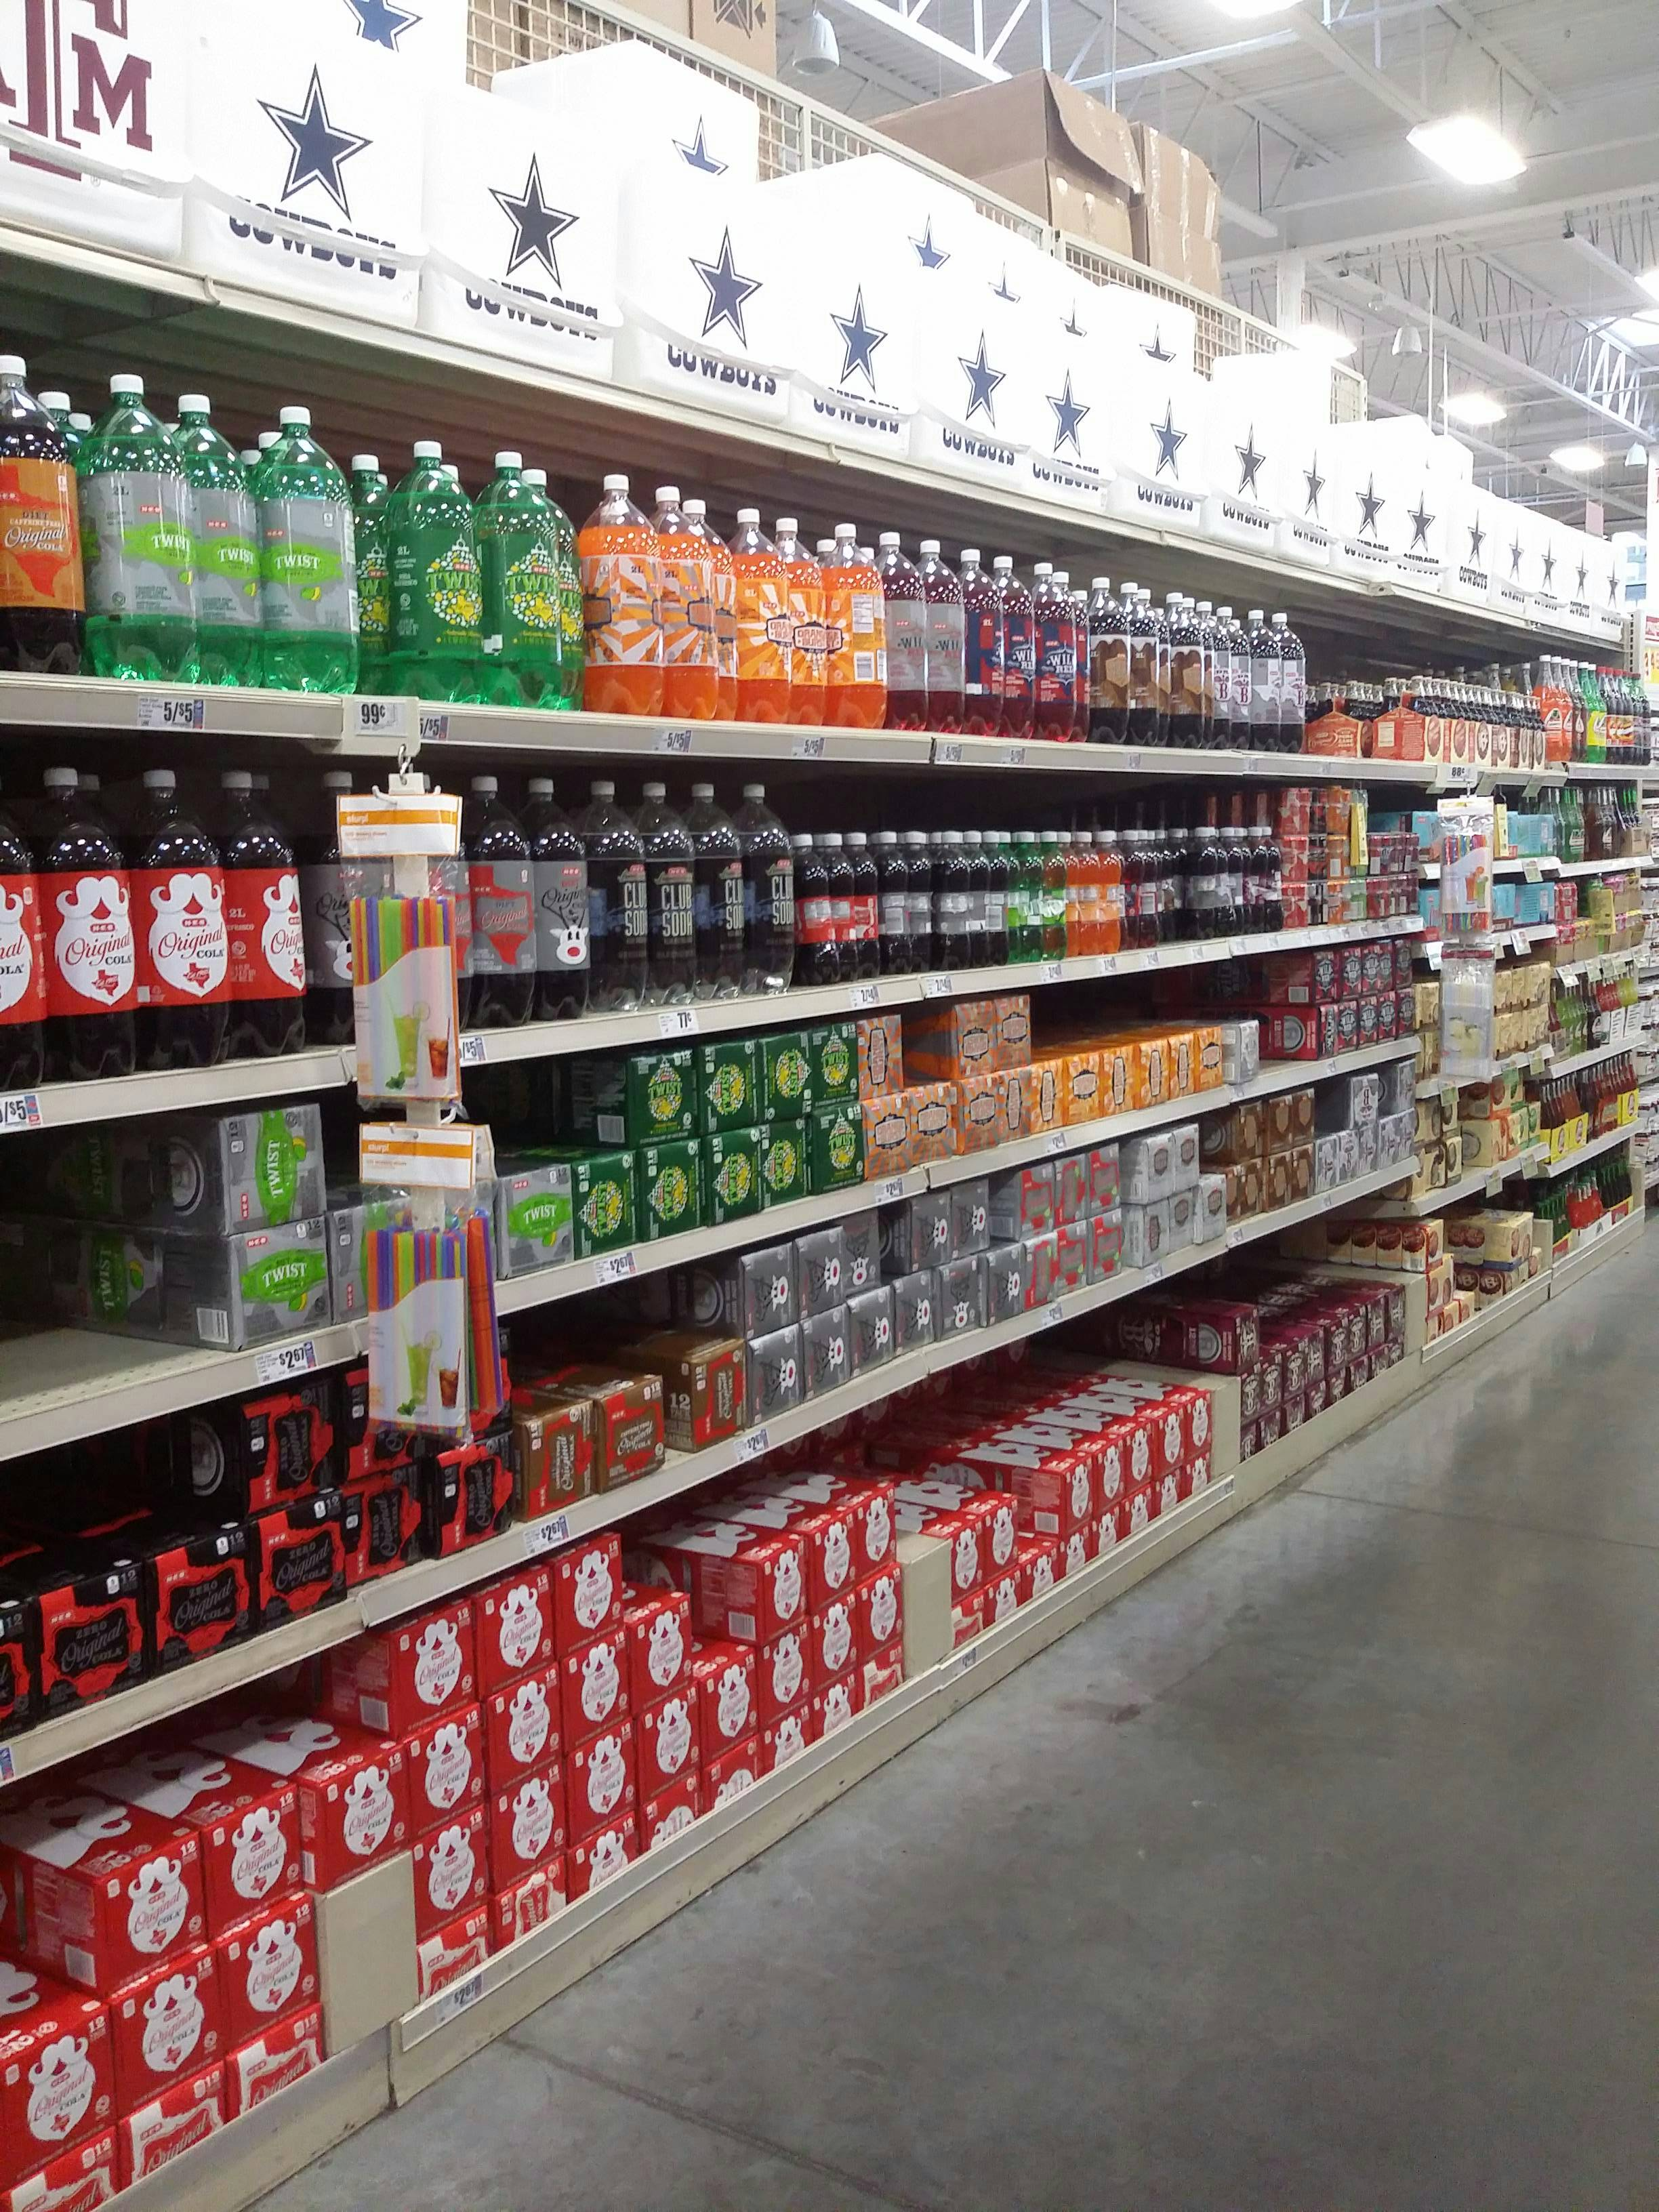Misplacement: (505, 1268, 742, 1531), (500, 1049, 645, 1190)
Out-of-stock: (12, 1120, 223, 1433), (1260, 958, 1323, 1085), (1462, 1082, 1493, 1179)
